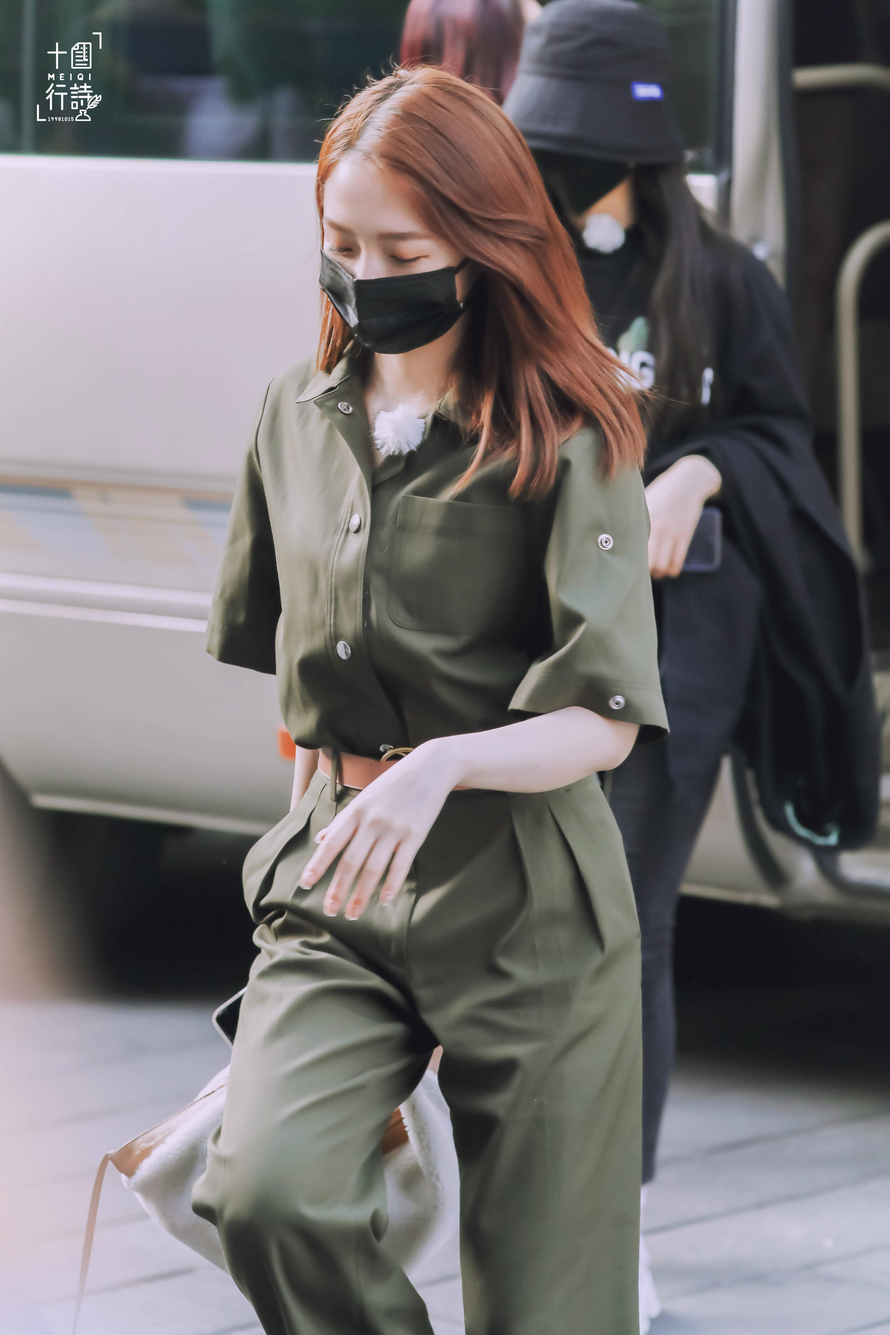OK: (320, 193, 462, 353), (525, 77, 641, 219)
